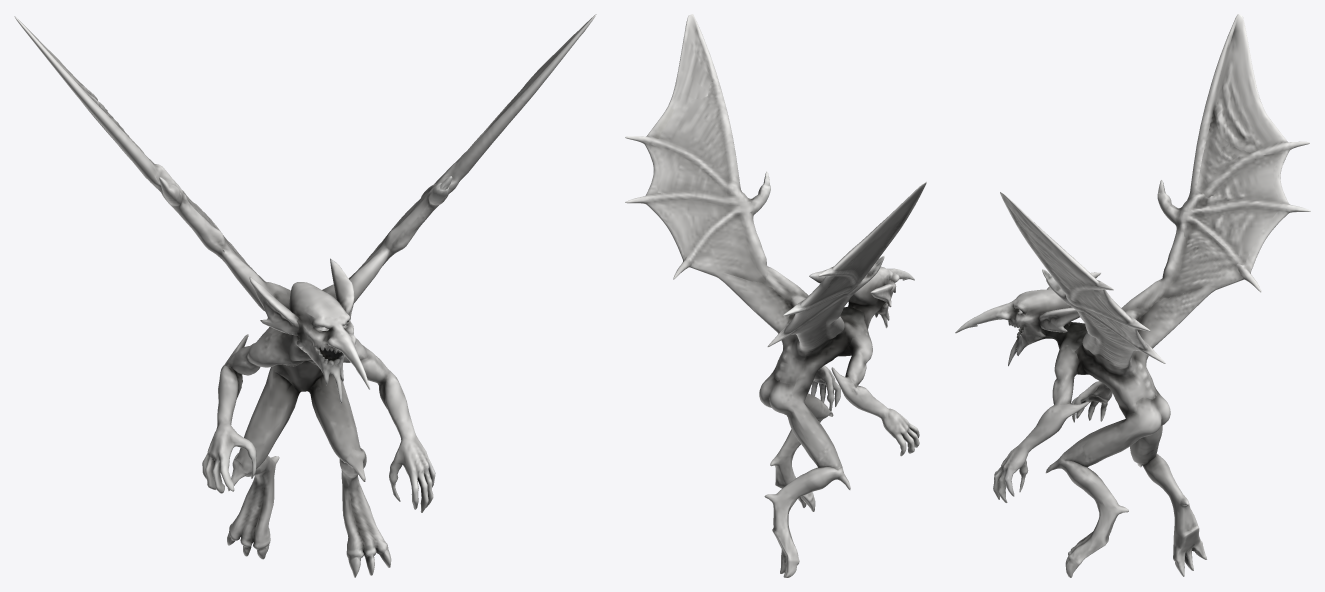
The model's file is MZ4250 - Steam Mephit_3 2025.glb.
The picture shows the model from 3 angles, left to right: view 1: azimuth 30°, elevation 25°; view 2: azimuth 150°, elevation 25°; view 3: azimuth 270°, elevation 25°; orthographic projection. The views are drawn at different scales.
Parts seen in each view (by area): view 1: Cylinder.001; view 2: Cylinder.001; view 3: Cylinder.001.
Boxes of the visible parts, bbox=[...] form: Cylinder.001: bbox=[14, 14, 596, 577]; Cylinder.001: bbox=[625, 14, 926, 577]; Cylinder.001: bbox=[955, 14, 1310, 577].
Bounding box in the file's own units: 101 × 121 × 81.88.
Materials: 1 (1 with a texture image).
